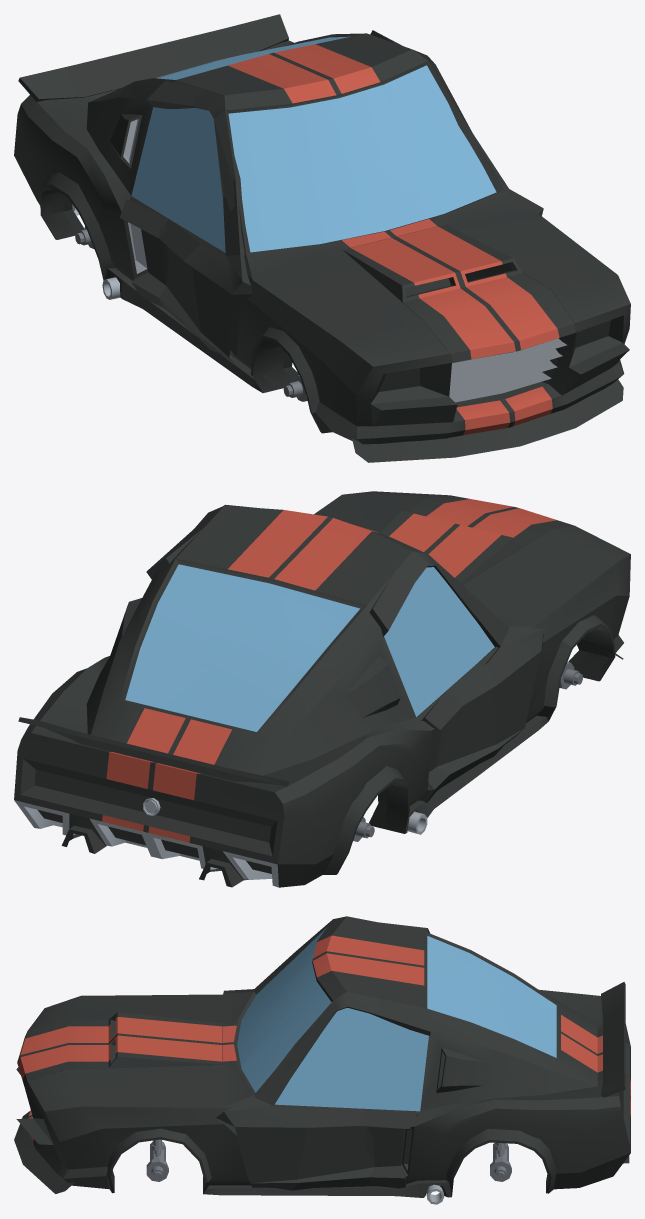
Rendered from macchina_nera_4.fbx.
3 renders of one model, top to bottom at view 1: azimuth 30°, elevation 25°; view 2: azimuth 150°, elevation 25°; view 3: azimuth 270°, elevation 25°, orthographic. The views are drawn at different scales.
Visible parts, largest first — view 1: scocca_nera, cofano_1, porta_rotta_dx_1, porta_nuova_dx_1, porta_rotta_sx_2; view 2: scocca_nera, porta_rotta_dx_1, porta_nuova_dx_1, cofano_1, porta_rotta_sx_2; view 3: scocca_nera, porta_rotta_sx_2, porta_nuova_sx_2, cofano_1, porta_rotta_dx_1.
Part boxes in pixels (<box>): scocca_nera: <box>14,14,630,462</box>; cofano_1: <box>343,224,576,362</box>; porta_rotta_dx_1: <box>120,80,252,363</box>; porta_nuova_dx_1: <box>129,80,252,361</box>; porta_rotta_sx_2: <box>370,30,543,215</box>; scocca_nera: <box>14,491,630,887</box>; porta_rotta_dx_1: <box>369,552,543,802</box>; porta_nuova_dx_1: <box>367,551,535,800</box>; cofano_1: <box>380,495,574,584</box>; porta_rotta_sx_2: <box>146,506,222,579</box>; scocca_nera: <box>14,916,630,1204</box>; porta_rotta_sx_2: <box>216,992,430,1190</box>; porta_nuova_sx_2: <box>222,992,428,1186</box>; cofano_1: <box>17,1012,221,1086</box>; porta_rotta_dx_1: <box>223,921,430,994</box>.
Bounding box in the file's own units: 215 × 146 × 426.
Materials: 1 (1 with a texture image).
